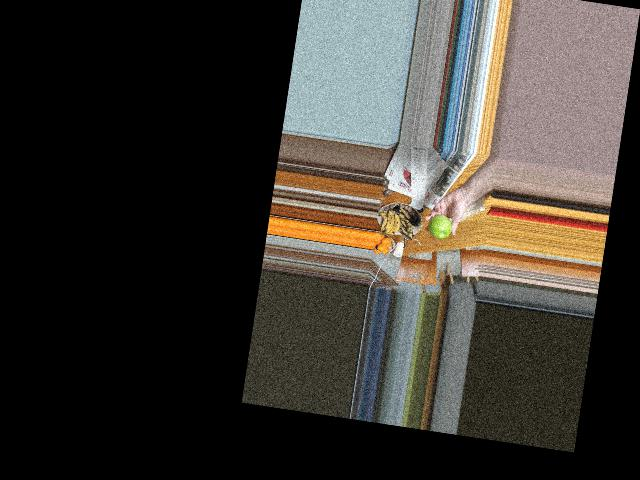apple: (426, 212, 452, 241)
